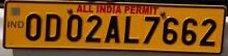character: (44, 12, 61, 43), (198, 18, 216, 47), (123, 14, 140, 44), (142, 15, 160, 43), (25, 13, 42, 42), (103, 14, 120, 43), (162, 16, 179, 45), (85, 14, 102, 42), (180, 17, 197, 45), (66, 14, 82, 42)
